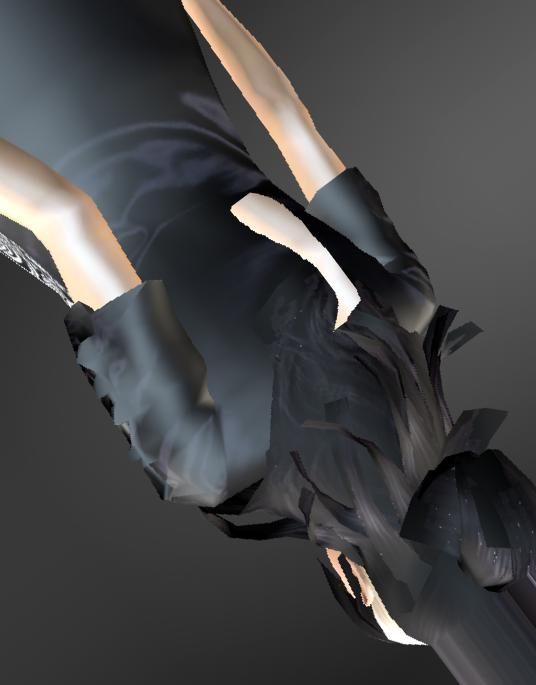clip: (225, 187, 256, 244)
